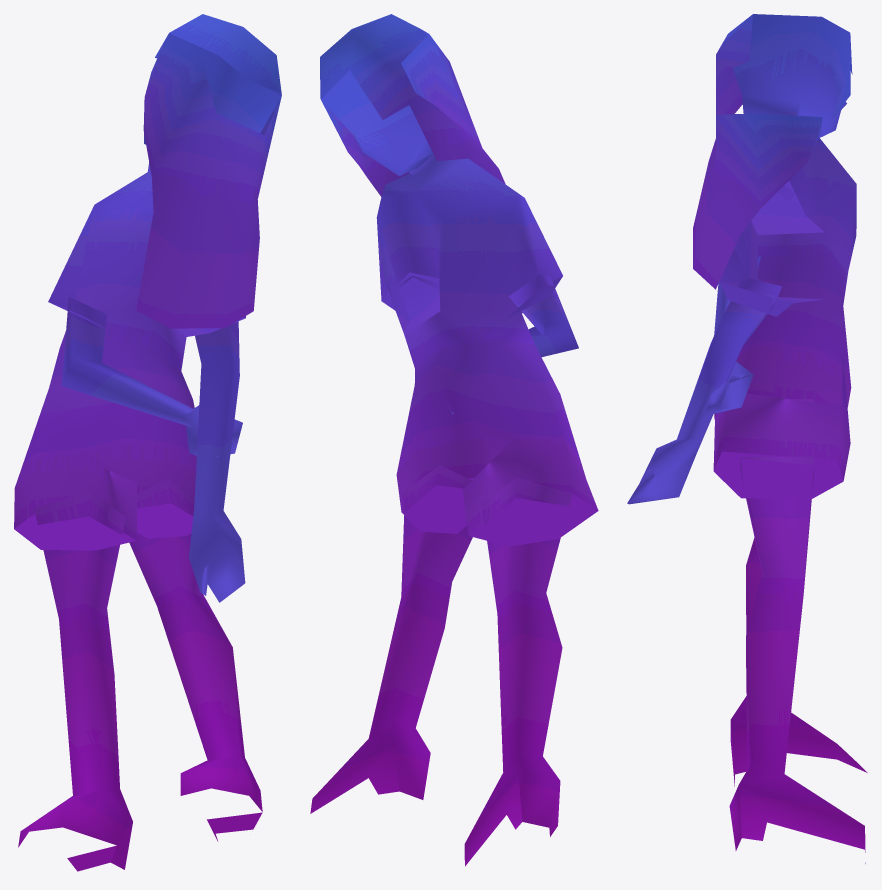
The model's file is ps2_save-icons_kamaitachinoyorutriplekamaitachinoyoru-1pensionspur.glb.
The picture shows the model from 3 angles, left to right: view 1: azimuth 30°, elevation 25°; view 2: azimuth 150°, elevation 25°; view 3: azimuth 270°, elevation 25°; orthographic projection. The views are drawn at different scales.
Parts seen in each view (by area): view 1: sn2.ico; view 2: sn2.ico; view 3: sn2.ico.
Boxes of the visible parts, x1,y1,x2,y2 form: sn2.ico: (14, 14, 281, 871); sn2.ico: (310, 14, 598, 866); sn2.ico: (627, 14, 867, 863).
Size of the model in its own units: 1.57 by 4.78 by 1.25.
1 material, 1 textured.
